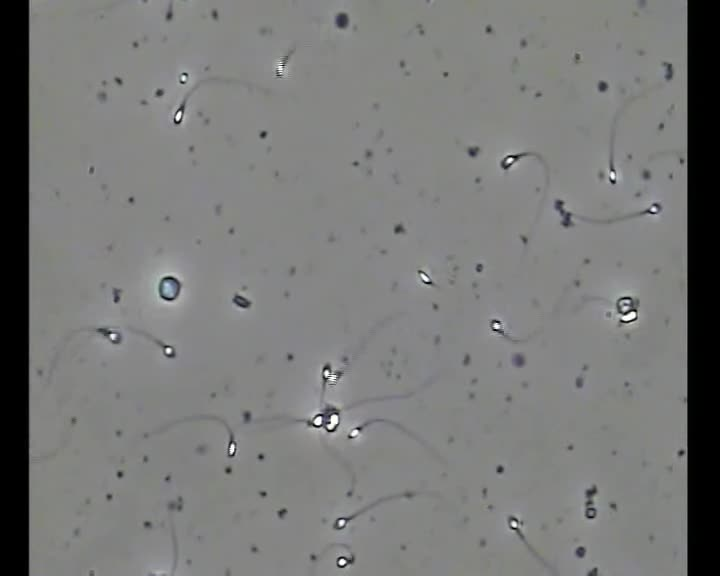spermhead: (158, 275, 181, 301), (321, 363, 342, 384), (272, 54, 289, 78), (324, 407, 340, 432), (616, 296, 638, 314), (499, 153, 522, 170), (96, 328, 122, 343), (507, 514, 524, 536), (617, 310, 638, 325), (416, 268, 434, 285), (232, 293, 251, 309), (172, 103, 185, 125), (335, 553, 354, 567), (168, 495, 183, 512), (489, 318, 504, 334), (309, 413, 324, 428), (226, 435, 236, 457), (333, 516, 348, 530), (645, 202, 662, 214), (561, 210, 573, 227), (347, 426, 362, 439), (584, 484, 597, 499), (607, 167, 618, 183), (162, 344, 175, 357), (178, 71, 189, 85), (553, 199, 564, 213), (585, 505, 596, 519), (402, 489, 414, 500)
